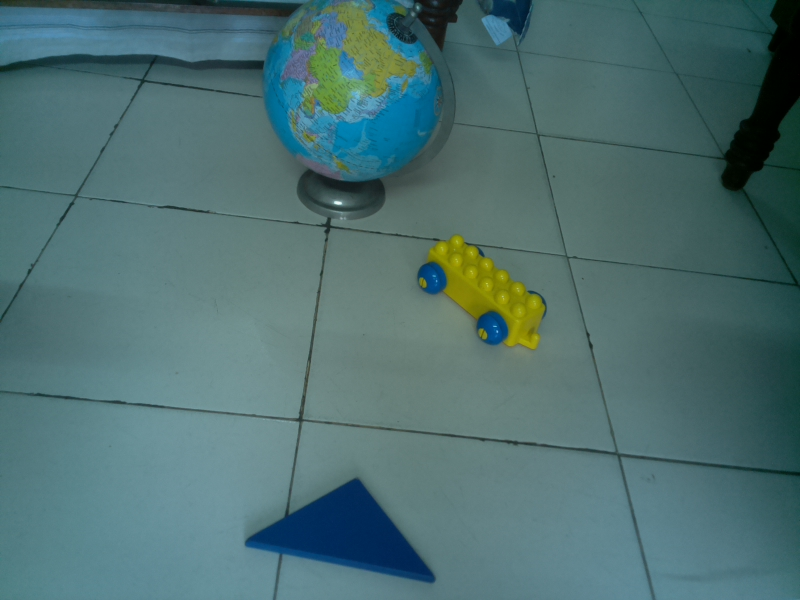Triangle: (242, 472, 441, 586)
toy_Car: (415, 234, 547, 352)
